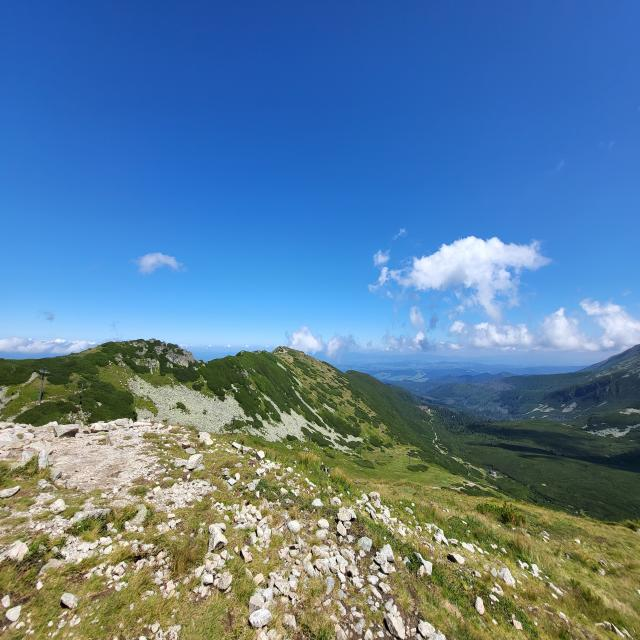Uhrocie Kasprowe: (162, 233, 414, 460)
